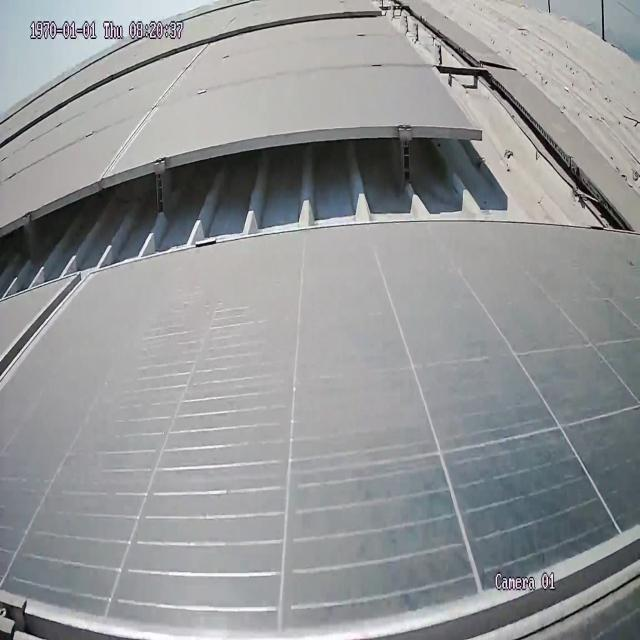interior panel: (0, 501, 640, 640)
outher panel: (0, 0, 640, 294)
